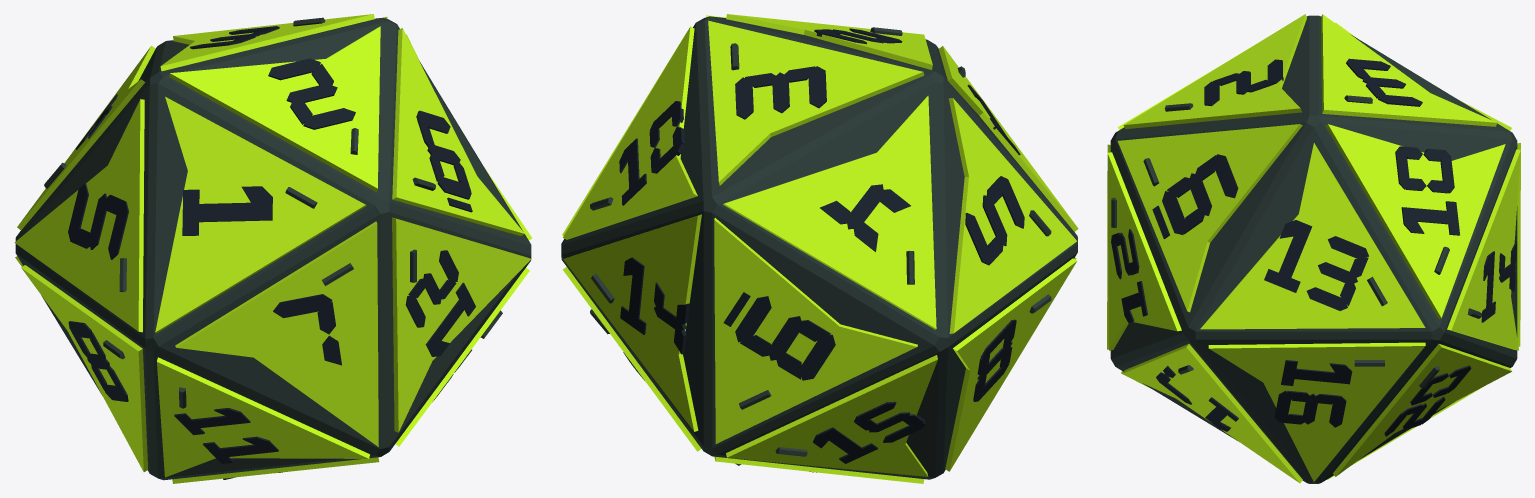
3 views of the same model, side by side, from view 1: azimuth 30°, elevation 25°; view 2: azimuth 150°, elevation 25°; view 3: azimuth 270°, elevation 25° (orthographic). The views are drawn at different scales.
Visible parts, largest first — view 1: CUTLINE d20 canonical sculpture; view 2: CUTLINE d20 canonical sculpture; view 3: CUTLINE d20 canonical sculpture.
Boxes of the visible parts, bbox=[...] form: CUTLINE d20 canonical sculpture: bbox=[14, 14, 532, 483]; CUTLINE d20 canonical sculpture: bbox=[561, 14, 1078, 483]; CUTLINE d20 canonical sculpture: bbox=[1107, 14, 1520, 483].
Size of the model in its own units: 1.72 by 1.72 by 1.72.
